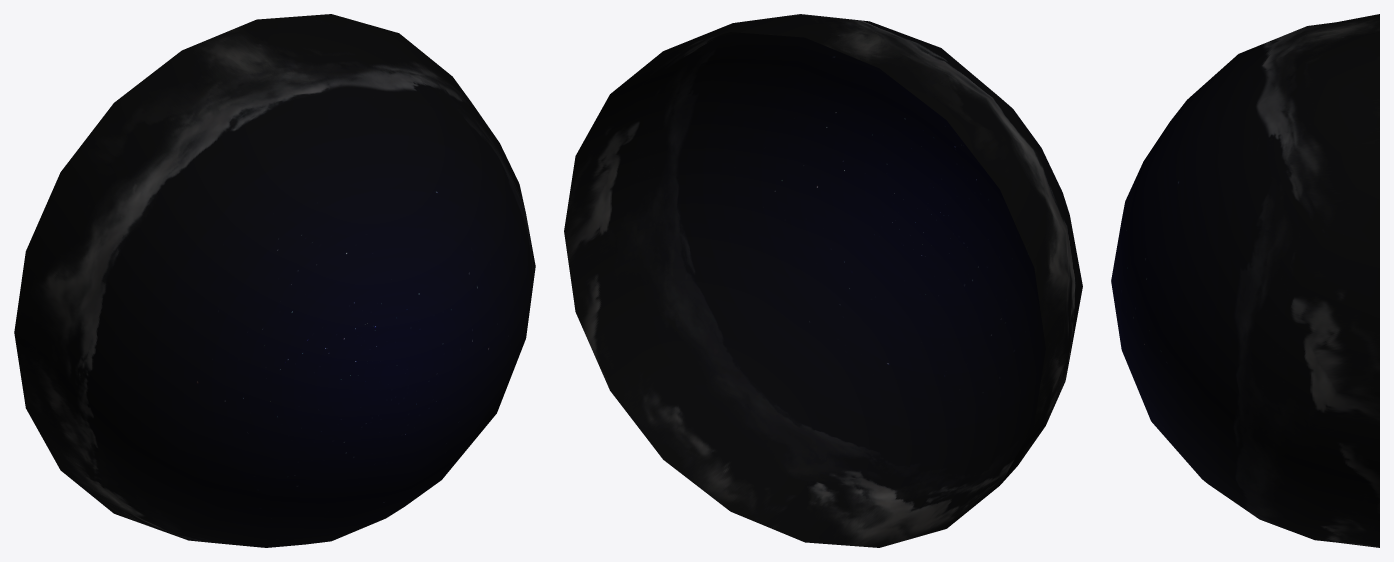
File: skybox_sky.fbx
3 views of the same model, side by side, from view 1: azimuth 30°, elevation 25°; view 2: azimuth 150°, elevation 25°; view 3: azimuth 270°, elevation 25° (orthographic). The views are drawn at different scales.
Parts seen in each view (by area): view 1: skydome; view 2: skydome; view 3: skydome.
Boxes of the visible parts, x1=… form: skydome: x1=14, y1=14, x2=535, y2=547; skydome: x1=564, y1=14, x2=1082, y2=547; skydome: x1=1111, y1=14, x2=1379, y2=547.
Size of the model in its own units: 1427 by 1428 by 713.
1 material, 1 textured.
